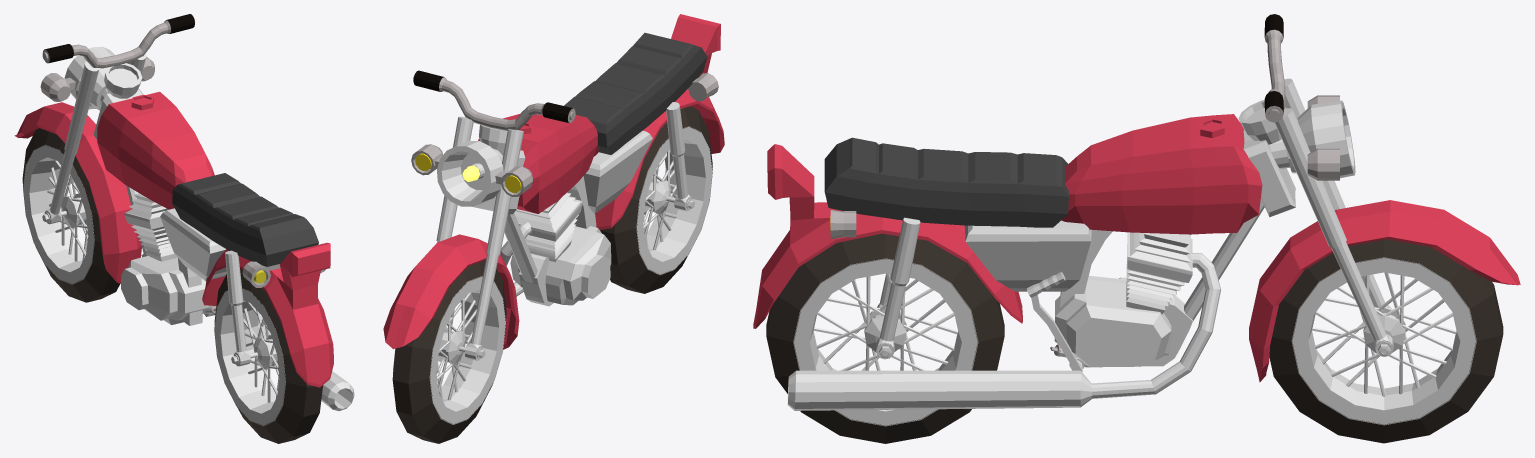
Rendered from cb 100 draft 22 - Copy (2).fbx.
3 renders of one model, left to right at view 1: azimuth 30°, elevation 25°; view 2: azimuth 150°, elevation 25°; view 3: azimuth 270°, elevation 25°, orthographic. The views are drawn at different scales.
Parts seen in each view (by area): view 1: tangki, KURSI, spakborbelakang, spakbor, velg depan, velg belakang, Mesin, ban belakang, ban depan, shock deppan, electric box, Stang (+12 smaller); view 2: KURSI, spakbor, velg belakang, ban depan, tangki, velg depan, ban belakang, Mesin, shock deppan, spakborbelakang, reflektor, electric box (+14 smaller); view 3: tangki, KURSI, knalpot, ban depan, ban belakang, spakbor, velg depan, spakborbelakang, Mesin, velg belakang, electric box, shock deppan (+14 smaller).
Boxes of the visible parts, bbox=[...] form: tangki: bbox=[97, 91, 214, 209]; KURSI: bbox=[172, 173, 318, 266]; spakborbelakang: bbox=[202, 242, 333, 387]; spakbor: bbox=[14, 102, 141, 283]; velg depan: bbox=[23, 144, 94, 284]; velg belakang: bbox=[214, 288, 285, 426]; Mesin: bbox=[121, 256, 215, 324]; ban belakang: bbox=[214, 269, 322, 443]; ban depan: bbox=[22, 128, 119, 302]; shock deppan: bbox=[44, 53, 146, 224]; electric box: bbox=[160, 208, 226, 281]; Stang: bbox=[42, 14, 195, 68]; KURSI: bbox=[564, 32, 707, 154]; spakbor: bbox=[383, 234, 519, 349]; velg belakang: bbox=[636, 126, 712, 275]; ban depan: bbox=[392, 260, 506, 443]; tangki: bbox=[478, 114, 598, 213]; velg depan: bbox=[393, 276, 505, 424]; ban belakang: bbox=[600, 106, 712, 293]; Mesin: bbox=[510, 226, 611, 305]; shock deppan: bbox=[436, 116, 523, 360]; spakborbelakang: bbox=[595, 14, 724, 229]; reflektor: bbox=[437, 140, 503, 206]; electric box: bbox=[583, 130, 652, 213]; tangki: bbox=[1061, 114, 1262, 234]; KURSI: bbox=[824, 137, 1068, 227]; knalpot: bbox=[787, 252, 1220, 410]; ban depan: bbox=[1269, 239, 1503, 443]; ban belakang: bbox=[766, 233, 1004, 443]; spakbor: bbox=[1249, 200, 1520, 382]; velg depan: bbox=[1291, 257, 1476, 425]; spakborbelakang: bbox=[753, 144, 1022, 328]; Mesin: bbox=[1027, 271, 1172, 371]; velg belakang: bbox=[793, 258, 978, 426]; electric box: bbox=[964, 220, 1091, 291]; shock deppan: bbox=[1274, 78, 1393, 355].
Size of the model in its own units: 143 by 270 by 495.
